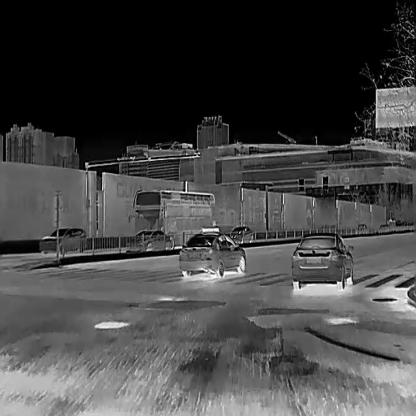bus: (127, 188, 216, 250)
car: (290, 232, 354, 288), (178, 224, 245, 276), (38, 226, 86, 253), (124, 227, 168, 250), (229, 224, 253, 242), (355, 222, 368, 232), (379, 223, 390, 231)
